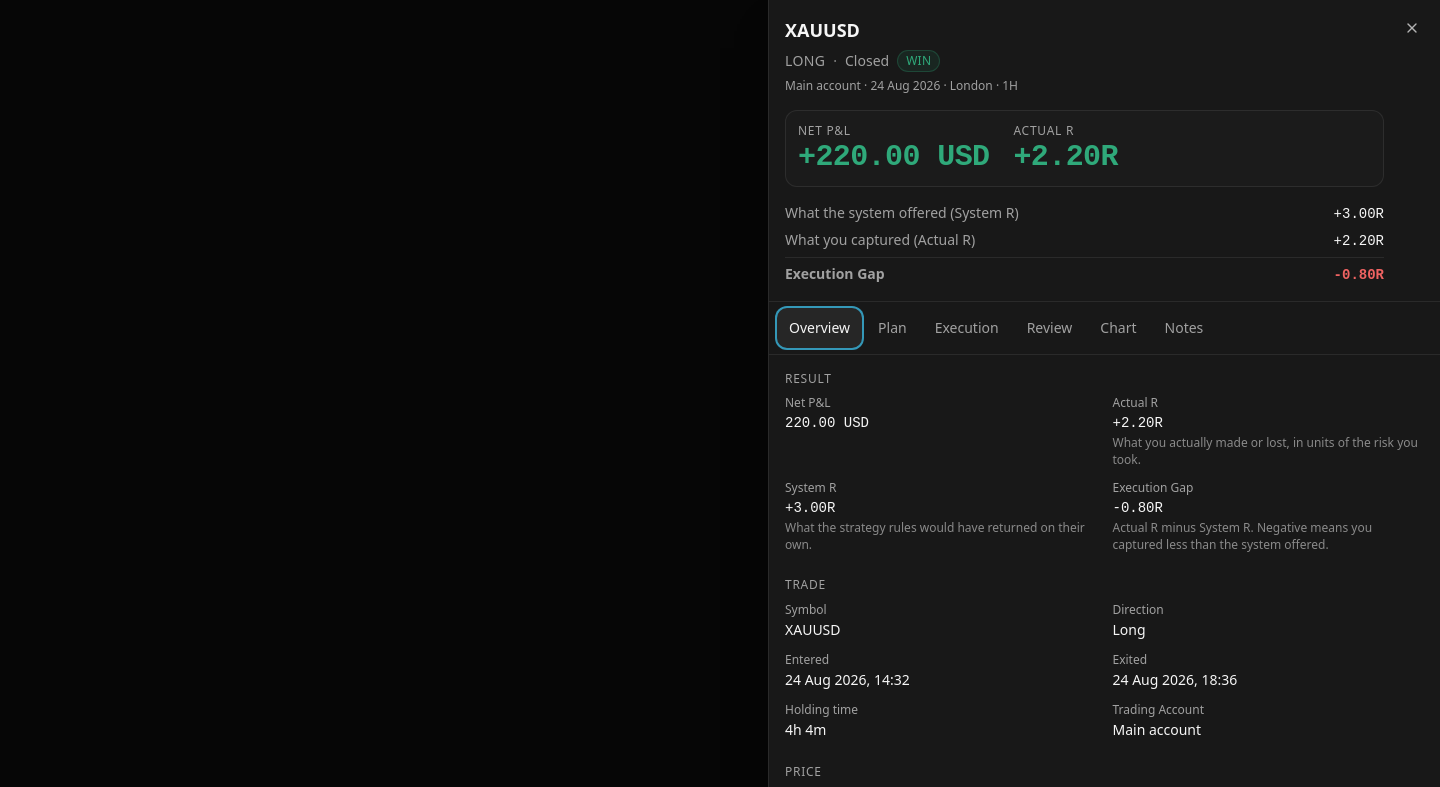
Test case: Trade Details — Plan and Confidence › holds the System result, which is why "Needs system result" opens here
The width and height of the screenshot is (1440, 787).
What coordinates should you click on to do the following:
click the tab "Plan"
I would click on:
 (892, 328)
Its box is [866,308,919,348].
(page scrolled)
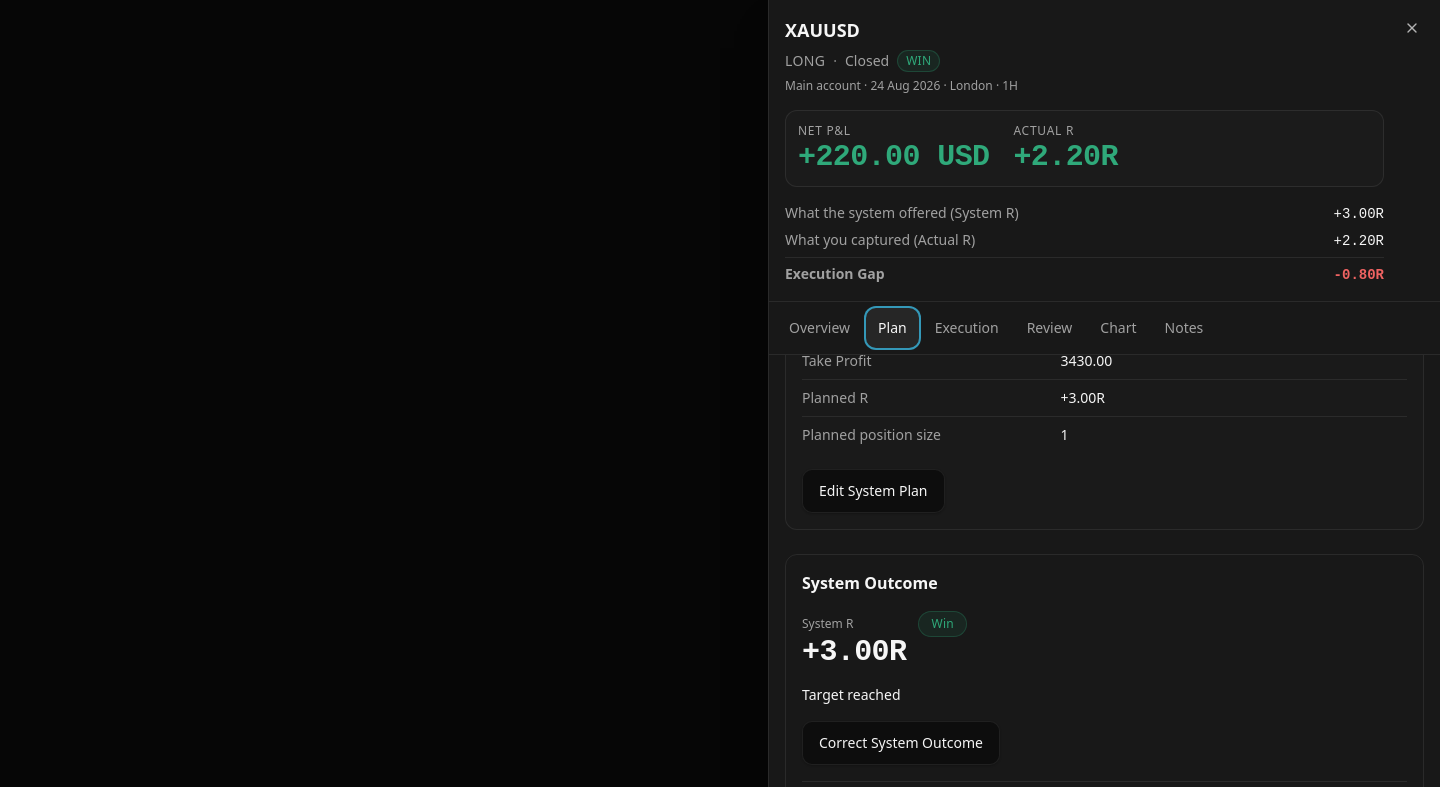
Now the heading "System Outcome" is shown, box [802,572,938,594]
